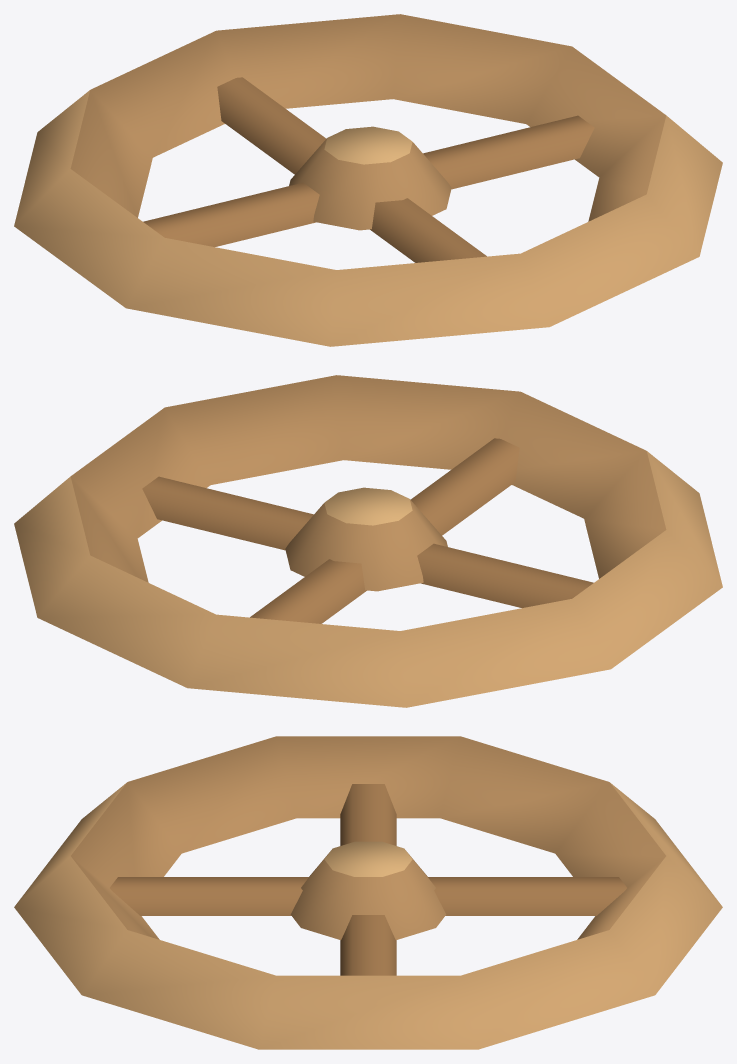
File: OB_Wheel_1.fbx
3 views of the same model, one above another, from view 1: azimuth 30°, elevation 25°; view 2: azimuth 150°, elevation 25°; view 3: azimuth 270°, elevation 25° (orthographic). The views are drawn at different scales.
Parts seen in each view (by area): view 1: OB_Wheel_1; view 2: OB_Wheel_1; view 3: OB_Wheel_1.
Part boxes in pixels (x1,y1,x2,y2): OB_Wheel_1: (14, 14, 722, 346); OB_Wheel_1: (14, 375, 722, 707); OB_Wheel_1: (14, 736, 722, 1049).
Size of the model in its own units: 110 by 9.94 by 116.
